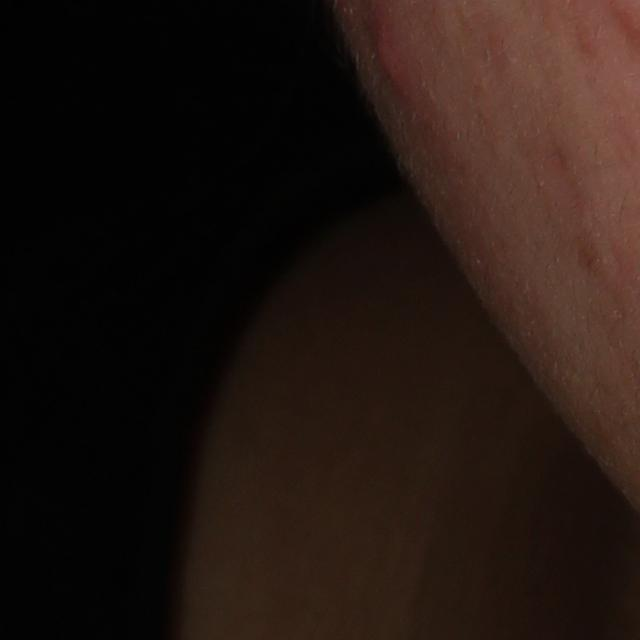papule: (367, 28, 403, 97)
